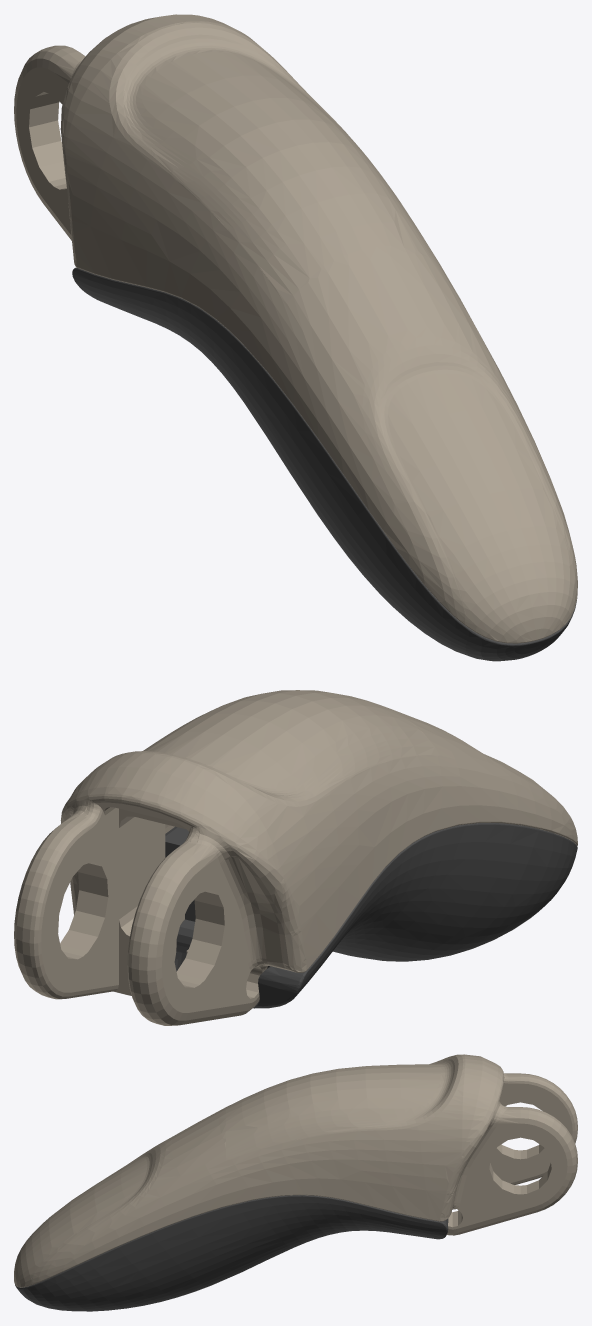
File: hand2_link_3_2_collisions.obj
The picture shows the model from 3 angles, top to bottom: view 1: azimuth 30°, elevation 25°; view 2: azimuth 150°, elevation 25°; view 3: azimuth 270°, elevation 25°; orthographic projection. The views are drawn at different scales.
Size of the model in its own units: 0.0158 by 0.0257 by 0.054.
